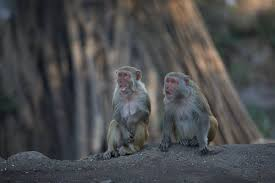monkey: (64, 39, 146, 158), (162, 57, 229, 160)
